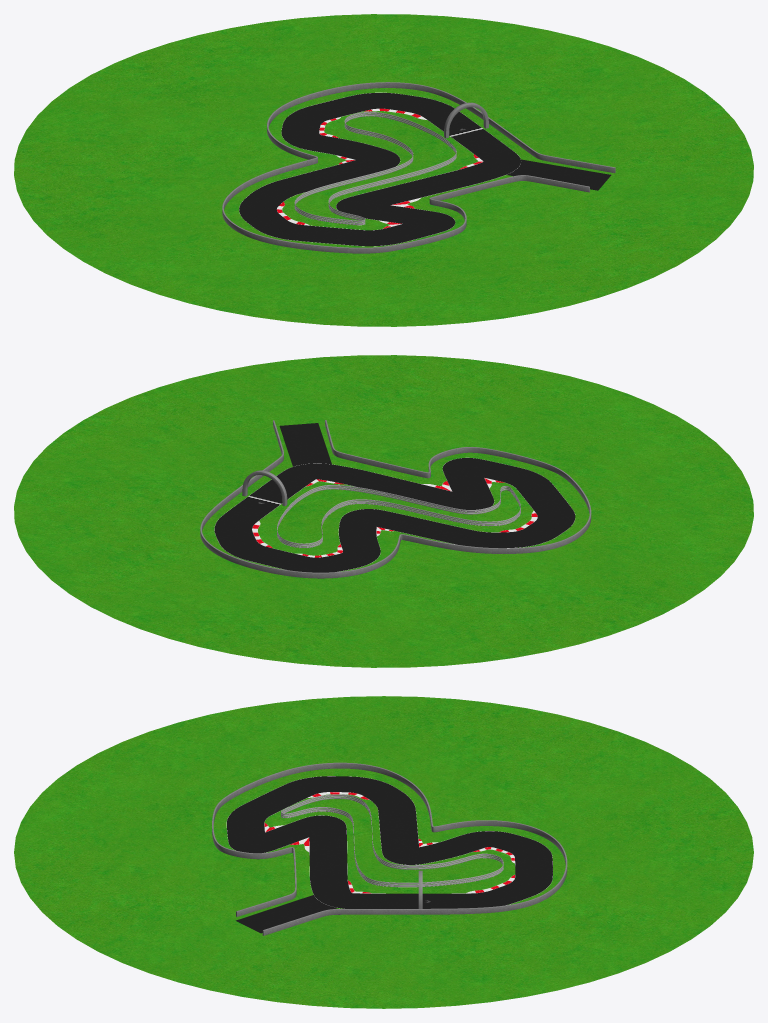
The model's file is showcaseMiniRaceTrack.a4ed75bd.glb.
The picture shows the model from 3 angles, top to bottom: view 1: azimuth 30°, elevation 25°; view 2: azimuth 150°, elevation 25°; view 3: azimuth 270°, elevation 25°; orthographic projection.
Parts seen in each view (by area): view 1: grass, track, barrier, railing; view 2: grass, track, barrier, railing; view 3: grass, track, barrier, railing.
Part boxes in pixels (x1,y1,x2,y2): grass: (14,14,753,326); track: (239,92,611,246); barrier: (222,82,615,253); railing: (294,112,456,225); grass: (14,355,753,667); track: (214,423,575,572); barrier: (200,420,591,578); railing: (277,485,520,548); grass: (14,696,753,1008); track: (226,776,552,933); barrier: (212,762,567,935); railing: (281,794,503,887).
Bounding box in the file's own units: 23.94 × 1.04 × 23.94.
4 materials, 3 textured.
